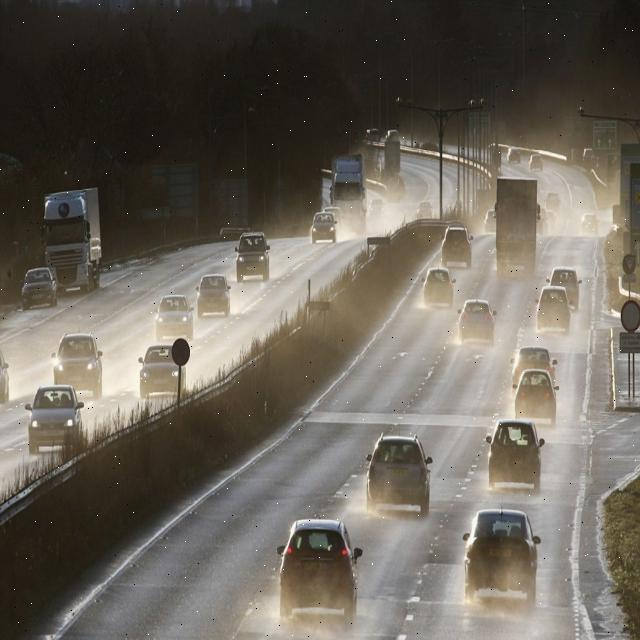Car: (268, 515, 360, 620), (463, 507, 540, 605), (365, 432, 434, 516), (486, 418, 546, 492), (24, 383, 84, 455), (52, 331, 104, 397), (512, 368, 558, 427), (138, 344, 184, 398), (510, 346, 557, 391), (458, 298, 497, 346), (154, 292, 193, 339), (235, 230, 270, 280), (536, 286, 572, 334), (547, 266, 582, 312), (197, 274, 231, 318), (441, 224, 474, 268), (421, 267, 455, 307), (310, 211, 338, 245), (368, 198, 385, 222), (580, 213, 598, 235), (544, 192, 561, 215), (416, 201, 433, 220), (528, 153, 544, 172), (507, 147, 521, 164)
Truck: (47, 178, 99, 291), (497, 180, 539, 275), (329, 152, 368, 235), (383, 130, 401, 178)
